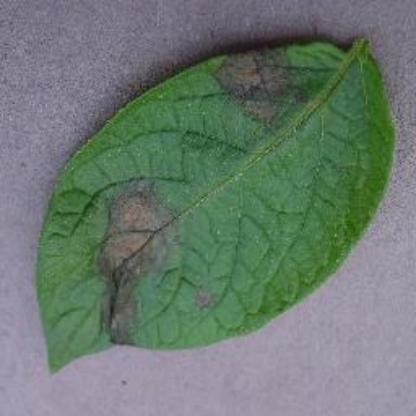Late-Blight: (24, 31, 400, 382)
